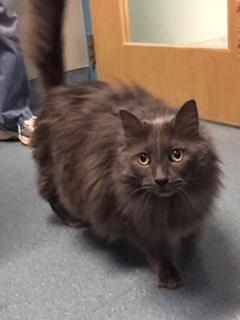persian: (110, 99, 223, 209)
